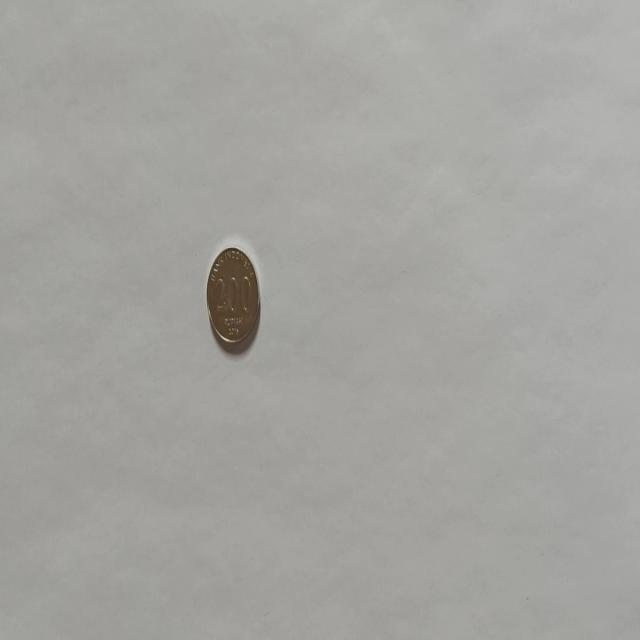dua ratus rupiah: (205, 245, 260, 346)
